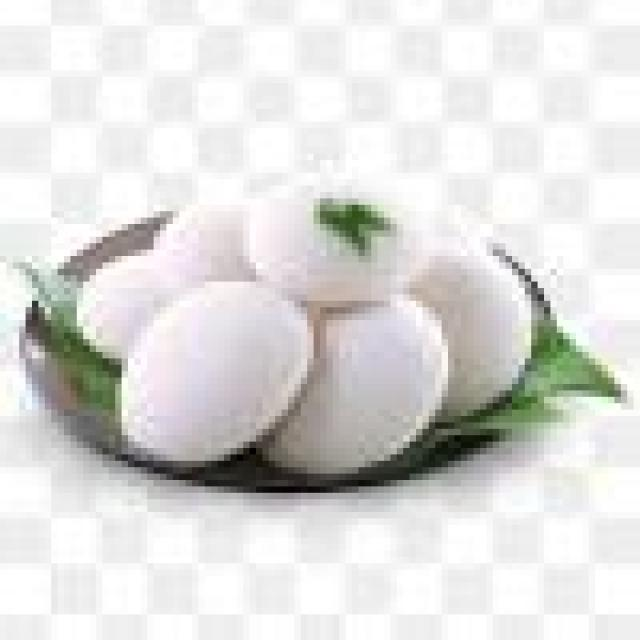idli: (378, 230, 538, 442), (268, 282, 442, 474), (115, 282, 301, 460), (230, 160, 436, 307), (51, 237, 224, 333)
